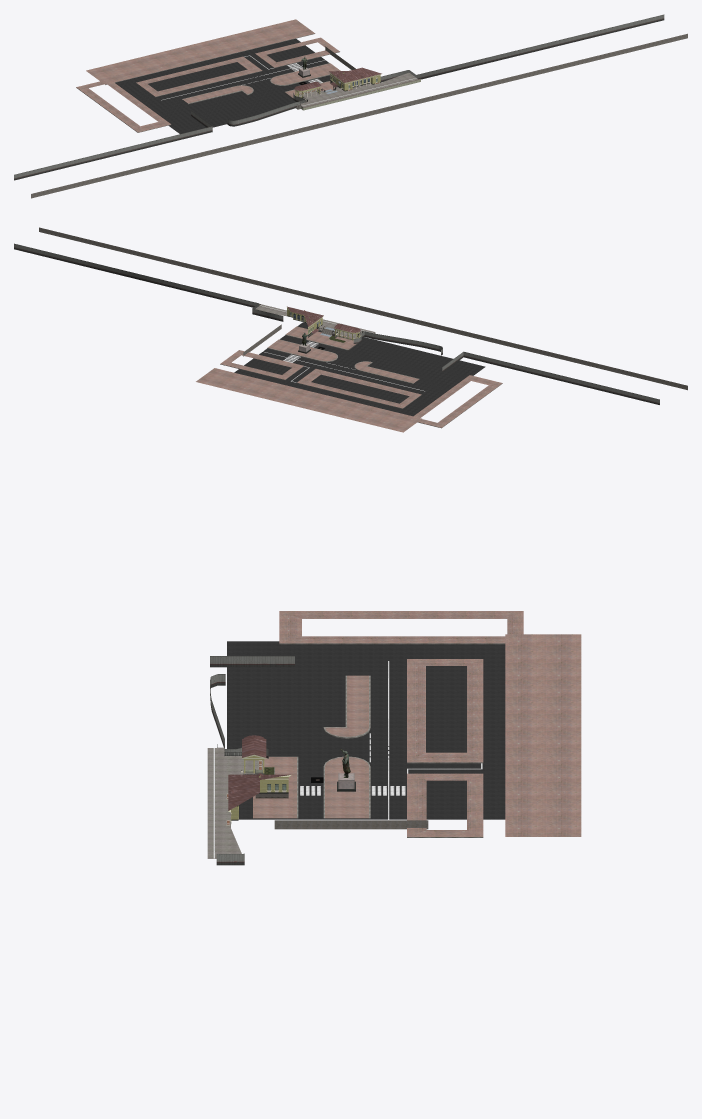
3 renders of one model, top to bottom at view 1: azimuth 30°, elevation 25°; view 2: azimuth 150°, elevation 25°; view 3: azimuth 270°, elevation 25°, orthographic. The views are drawn at different scales.
Parts seen in each view (by area): view 1: platform.317; view 2: platform.317; view 3: platform.317.
Part boxes in pixels (<box>): platform.317: <box>14,14,687,198</box>; platform.317: <box>14,227,687,432</box>; platform.317: <box>207,611,581,865</box>.
Bounding box in the file's own units: 39438 × 1117 × 12112.
